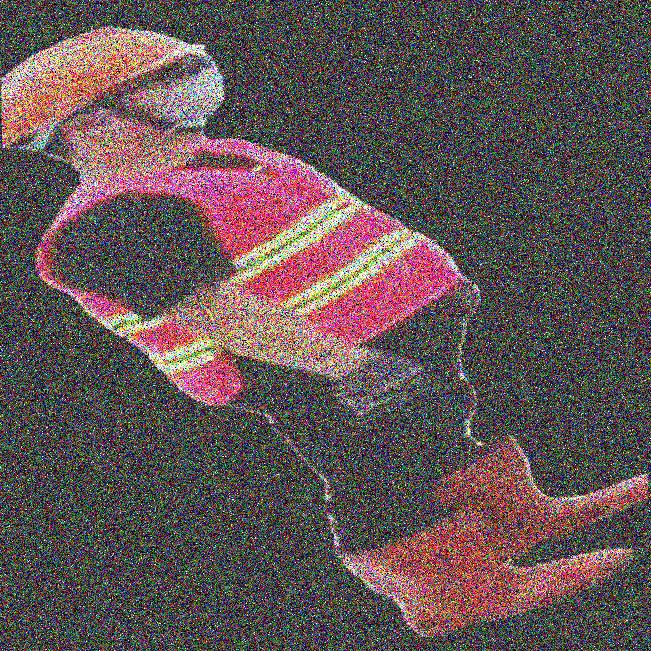Pessoa: (46, 0, 529, 650)
